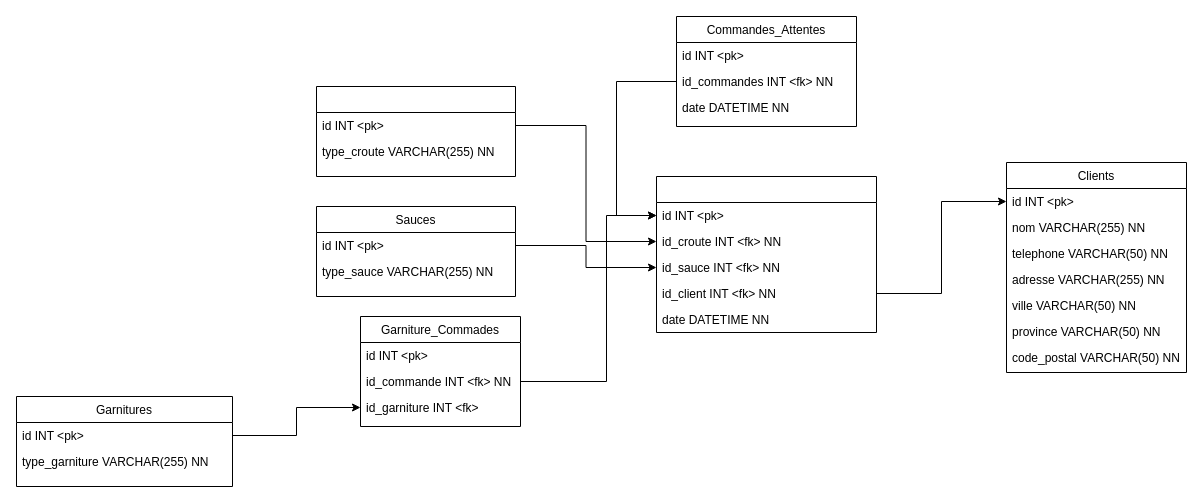
Image size: 1203x503. Some labels were removed from this diagram. The shapes that lost their labels are listed below. From the top down, each one's box as (x1, y1, x2, y2) in pixels, then its label:
(316, 86, 516, 176): Croutes
(656, 176, 876, 332): Commandes
